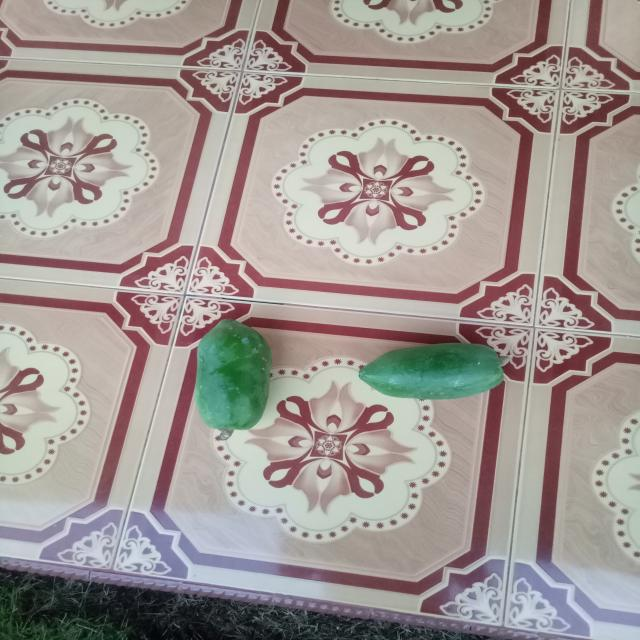Pepaya unrippen: (186, 310, 278, 432), (355, 340, 517, 401)
